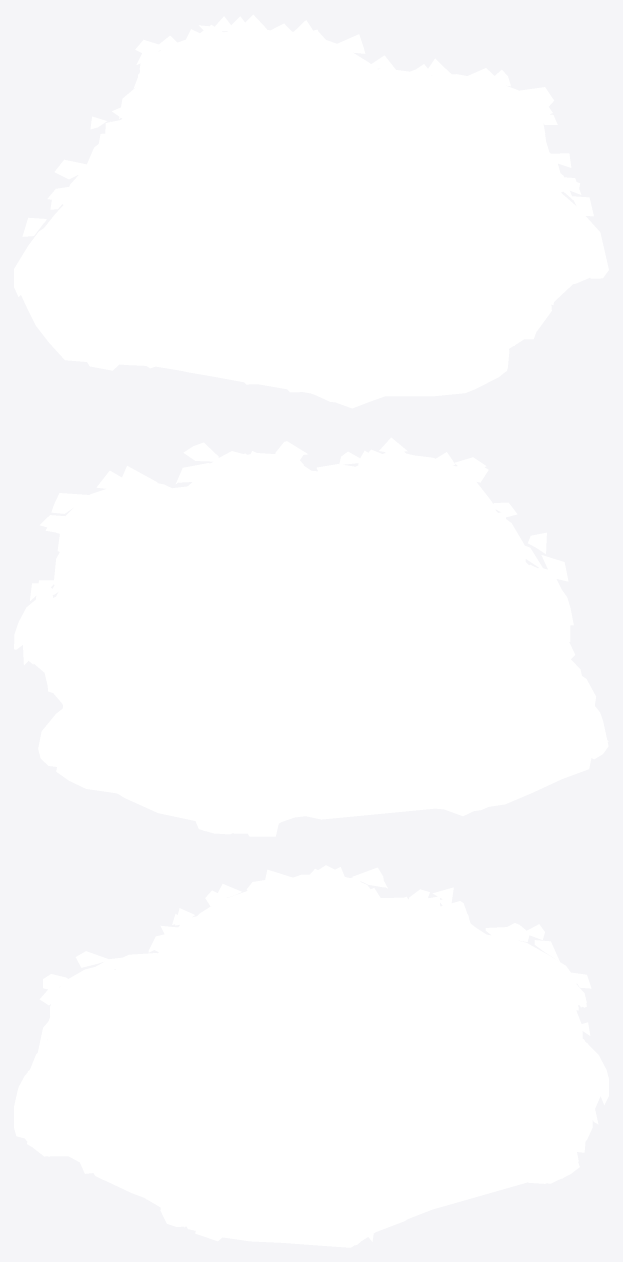
Rendered from arvore-petala.glb.
The picture shows the model from 3 angles, top to bottom: view 1: azimuth 30°, elevation 25°; view 2: azimuth 150°, elevation 25°; view 3: azimuth 270°, elevation 25°; orthographic projection. The views are drawn at different scales.
Parts seen in each view (by area): view 1: mesh_node; view 2: mesh_node; view 3: mesh_node.
Part boxes in pixels (left/top/right/bottom): mesh_node: left=14, top=14, right=608, bottom=408; mesh_node: left=14, top=437, right=608, bottom=836; mesh_node: left=14, top=865, right=608, bottom=1247.
Bounding box in the file's own units: 1 × 0.4277 × 1.
Materials: 1 (1 with a texture image).
